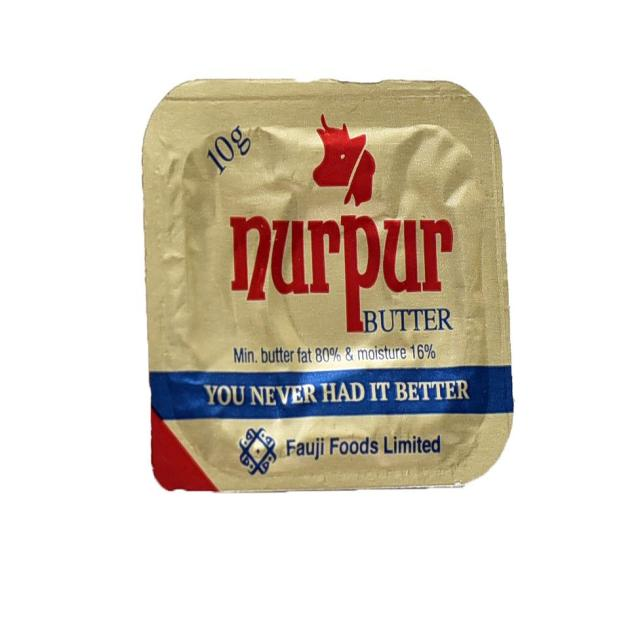butter: (142, 78, 514, 492)
